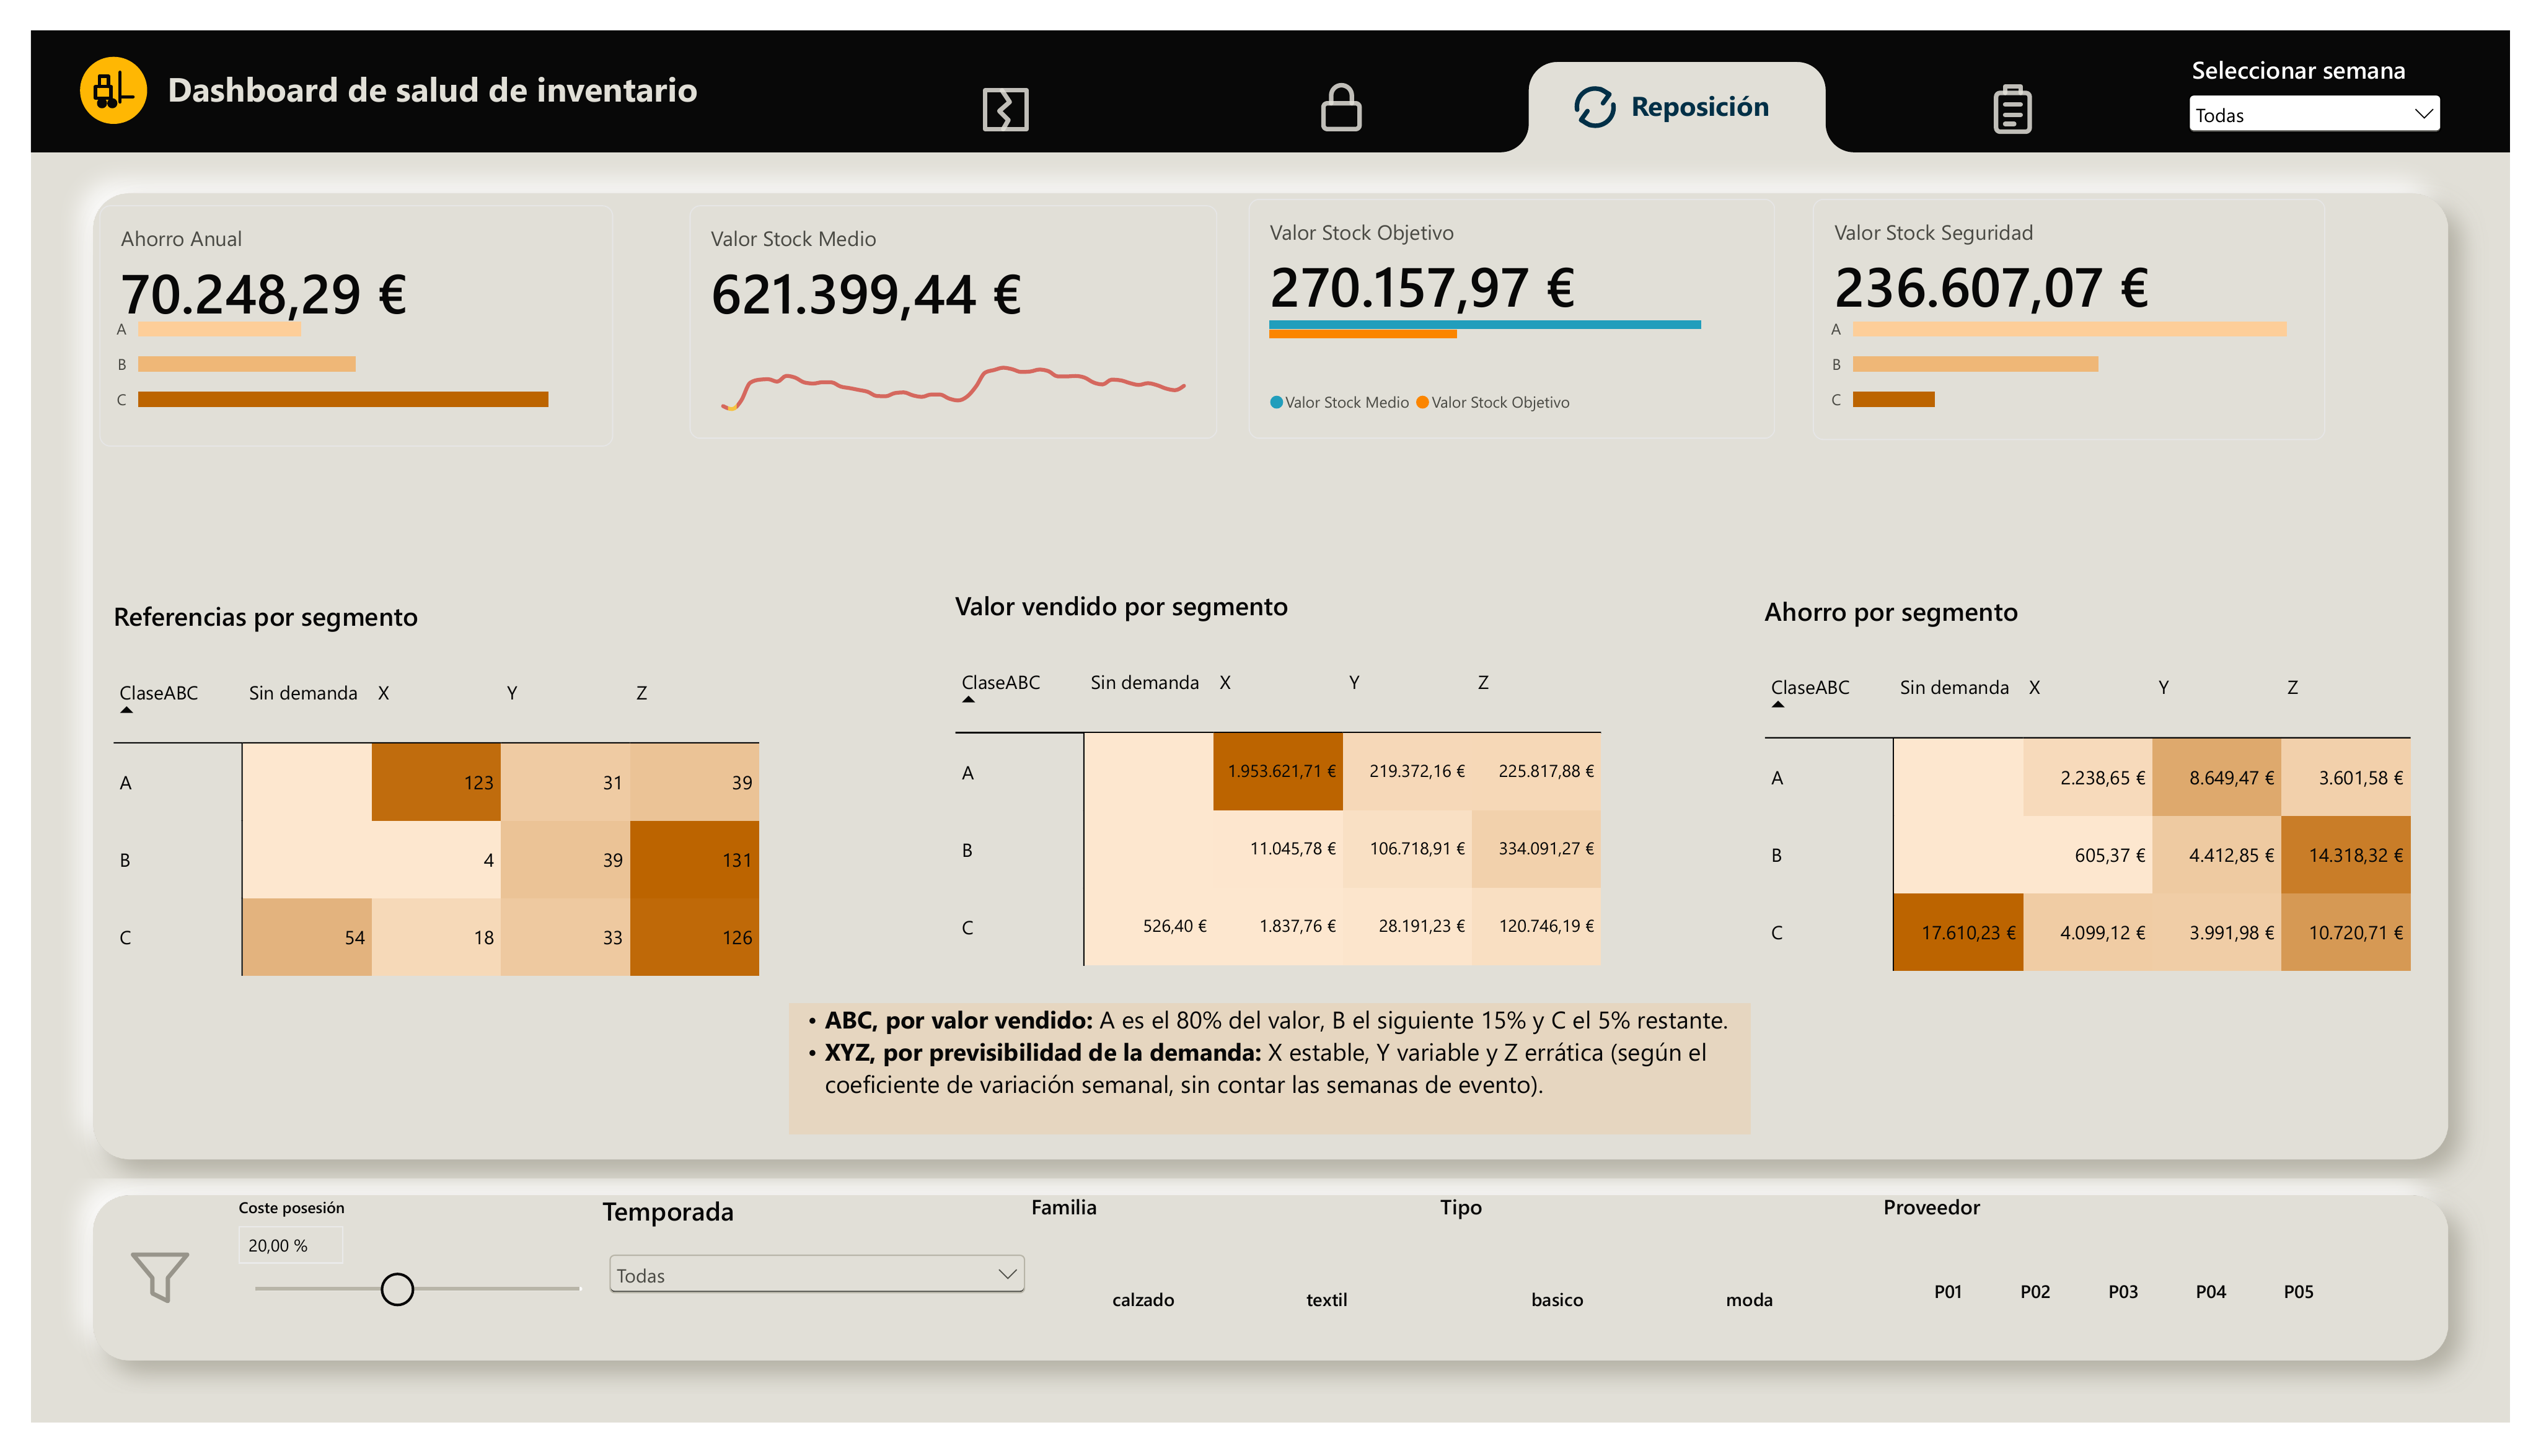

This screenshot's page, from the dashboard's own definition file:
{"tool":"powerbi","page":{"name":"Reposición","canvas":[1920,1080],"ordinal":2},"visuals":[{"type":"pivotTable","title":"Valor vendido por segmento","fields":{"Rows":["dim_producto.ClaseABC"],"Columns":["dim_producto.ClaseXYZ"],"Values":["_Medidas_Inmovilizado.Valor Consumido"]},"box":[699.9,416.9,535.5,359.5],"z":0},{"type":"cardVisual","fields":{"Data":["_Medidas_Reposición.Ahorro Anual"]},"box":[53,135,397.9,187.4],"z":1000},{"type":"cardVisual","fields":{"Data":["_Medidas_Reposición.Valor Stock Objetivo"]},"box":[942.5,130,408.8,186.2],"z":2000},{"type":"cardVisual","fields":{"Data":["_Medidas_Reposición.Valor Stock Seguridad"]},"box":[1380,130,397.4,187],"z":3000},{"type":"slicer","fields":{"Values":["Coste posesión.Coste posesión"]},"box":[152.5,902.5,290,125],"z":4000},{"type":"cardVisual","fields":{"Data":["_Medidas_Inmovilizado.Valor Stock Medio"]},"box":[510,135,409,181],"z":5000},{"type":"lineChart","fields":{"Y":["_Medidas_Inmovilizado.Valor Stock Medio"],"Category":["Calendario.SemanaLunes"]},"box":[510,229,409,87],"z":6000},{"type":"clusteredBarChart","fields":{"Y":["_Medidas_Inmovilizado.Valor Stock Medio","_Medidas_Reposición.Valor Stock Objetivo"]},"box":[943.3,170,408.3,146.7],"z":7000},{"type":"pivotTable","title":"Ahorro por segmento","fields":{"Rows":["dim_producto.ClaseABC"],"Columns":["dim_producto.ClaseXYZ"],"Values":["_Medidas_Reposición.Ahorro Anual"]},"box":[1327.2,420.7,544,334],"z":8000},{"type":"pivotTable","title":"Referencias por segmento","fields":{"Rows":["dim_producto.ClaseABC"],"Columns":["dim_producto.ClaseXYZ"],"Values":["_Medidas_Reposición.SKU"]},"box":[47.8,424.5,556,328],"z":9000},{"type":"slicer","title":"Temporada","fields":{"Values":["dim_producto.temporada"]},"box":[443.3,900,331.7,130],"z":10000},{"type":"advancedSlicerVisual","title":"Proveedor","fields":{"Values":["dim_proveedor.id_proveedor"]},"box":[1435,900,375,118.3],"z":11000},{"type":"advancedSlicerVisual","title":"Tipo","fields":{"Values":["dim_producto.tipo"]},"box":[1091.7,900,330,130],"z":12000},{"type":"advancedSlicerVisual","title":"Familia","fields":{"Values":["dim_producto.familia"]},"box":[775,900,316.7,130],"z":13000},{"type":"actionButton","box":[74.6,935.1,53.5,49.7],"z":14000},{"type":"slicer","fields":{"Values":["Calendario.SemanaLunes"]},"box":[1665.7,17.2,206.5,68.3],"z":15000},{"type":"clusteredBarChart","fields":{"Y":["_Medidas_Reposición.Ahorro Anual"],"Category":["dim_producto.ClaseABC"]},"box":[48,192,400,128],"z":16000},{"type":"clusteredBarChart","fields":{"Category":["dim_producto.ClaseABC"],"Y":["_Medidas_Reposición.Valor Stock Seguridad"]},"box":[1376,192,400,128],"z":17000},{"type":"actionButton","box":[970,31.2,91.2,55],"z":18000},{"type":"actionButton","box":[715,31.2,91.2,55],"z":19000},{"type":"actionButton","box":[1486.2,31.2,91.2,55],"z":20000},{"type":"textbox","box":[586.7,753.3,745,101.7],"z":21000}]}

Visuals, with their boxes on the page's 1920x1080 design canvas (x1, y1, x2, y2). These are canvas units, not pixel positions in the 2541x1456 screenshot, which may show the page scaled, cropped or inside an application window:
"Valor vendido por segmento" pivotTable: bbox=[700, 417, 1235, 776]
cardVisual - _Medidas_Reposición.Ahorro Anual: bbox=[53, 135, 451, 322]
cardVisual - _Medidas_Reposición.Valor Stock Objetivo: bbox=[942, 130, 1351, 316]
cardVisual - _Medidas_Reposición.Valor Stock Seguridad: bbox=[1380, 130, 1777, 317]
slicer - Coste posesión.Coste posesión: bbox=[152, 902, 442, 1028]
cardVisual - _Medidas_Inmovilizado.Valor Stock Medio: bbox=[510, 135, 919, 316]
lineChart - _Medidas_Inmovilizado.Valor Stock Medio x Calendario.SemanaLunes: bbox=[510, 229, 919, 316]
clusteredBarChart - _Medidas_Inmovilizado.Valor Stock Medio x _Medidas_Reposición.Valor Stock Objetivo: bbox=[943, 170, 1352, 317]
"Ahorro por segmento" pivotTable: bbox=[1327, 421, 1871, 755]
"Referencias por segmento" pivotTable: bbox=[48, 424, 604, 752]
"Temporada" slicer: bbox=[443, 900, 775, 1030]
"Proveedor" advancedSlicerVisual: bbox=[1435, 900, 1810, 1018]
"Tipo" advancedSlicerVisual: bbox=[1092, 900, 1422, 1030]
"Familia" advancedSlicerVisual: bbox=[775, 900, 1092, 1030]
actionButton: bbox=[75, 935, 128, 985]
slicer - Calendario.SemanaLunes: bbox=[1666, 17, 1872, 86]
clusteredBarChart - _Medidas_Reposición.Ahorro Anual x dim_producto.ClaseABC: bbox=[48, 192, 448, 320]
clusteredBarChart - dim_producto.ClaseABC x _Medidas_Reposición.Valor Stock Seguridad: bbox=[1376, 192, 1776, 320]
actionButton: bbox=[970, 31, 1061, 86]
actionButton: bbox=[715, 31, 806, 86]
actionButton: bbox=[1486, 31, 1577, 86]
textbox: bbox=[587, 753, 1332, 855]
